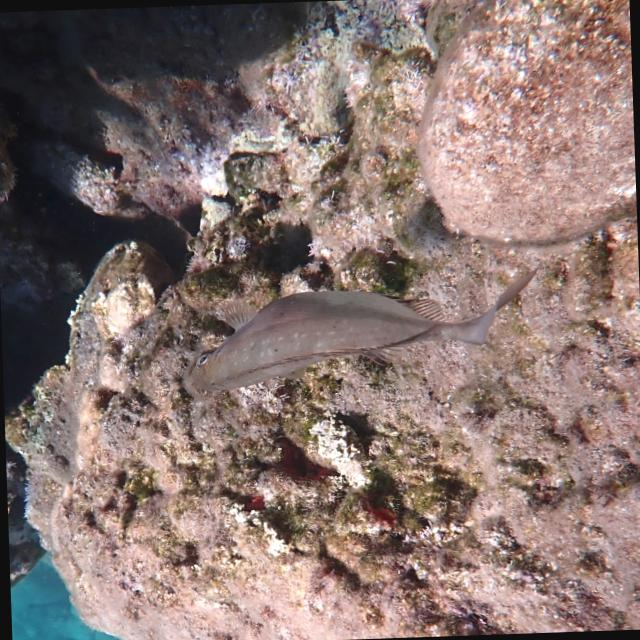Sokar Baligi: (168, 252, 551, 405)
